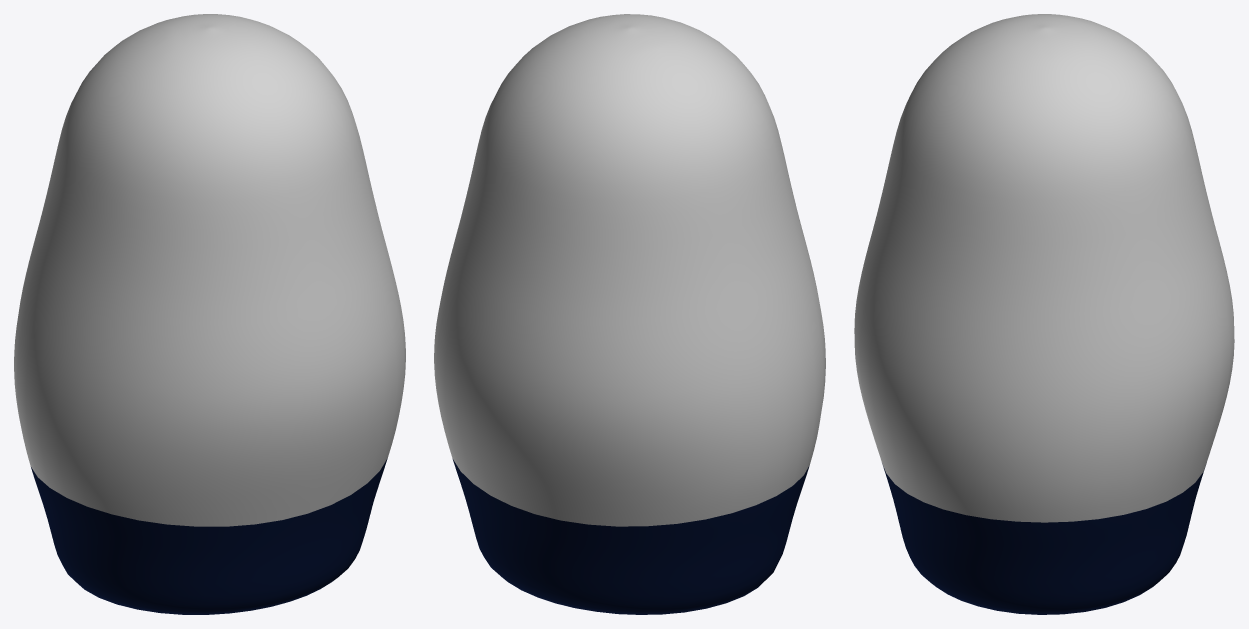
Rendered from Matryoshka-Dolls-Single.fbx.
3 views of the same model, side by side, from view 1: azimuth 30°, elevation 25°; view 2: azimuth 150°, elevation 25°; view 3: azimuth 270°, elevation 25° (orthographic).
Parts seen in each view (by area): view 1: Large_remesh; view 2: Large_remesh; view 3: Large_remesh.
Part boxes in pixels (x1,y1,x2,y2): Large_remesh: [14, 14, 405, 614]; Large_remesh: [434, 14, 825, 614]; Large_remesh: [854, 14, 1234, 614].
Bounding box in the file's own units: 167 × 248 × 161.
